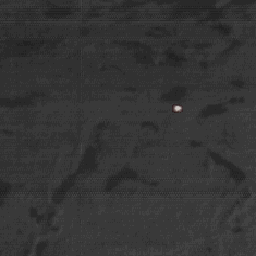Target: (172, 104, 183, 113)
